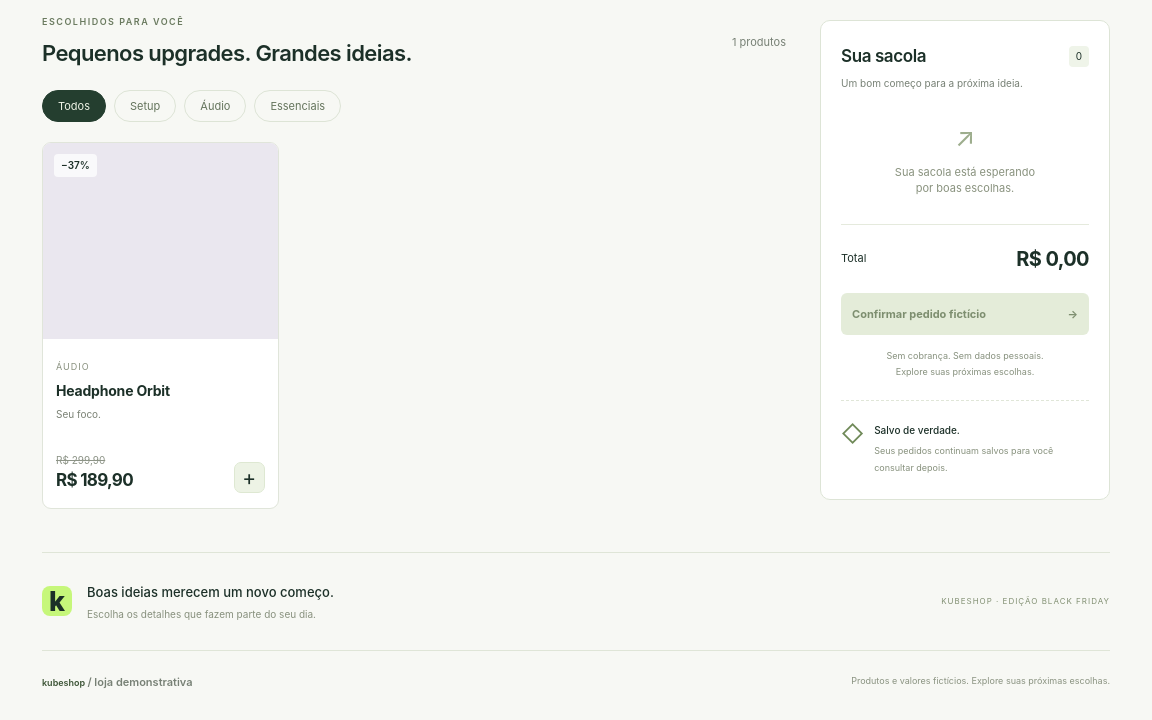
Test case: KubeShop - frontend › adiciona produtos à sacola e calcula o total
(page scrolled)
Click the button named "Adicionar Headphone Orbit": (249, 478) [234,462,265,493]
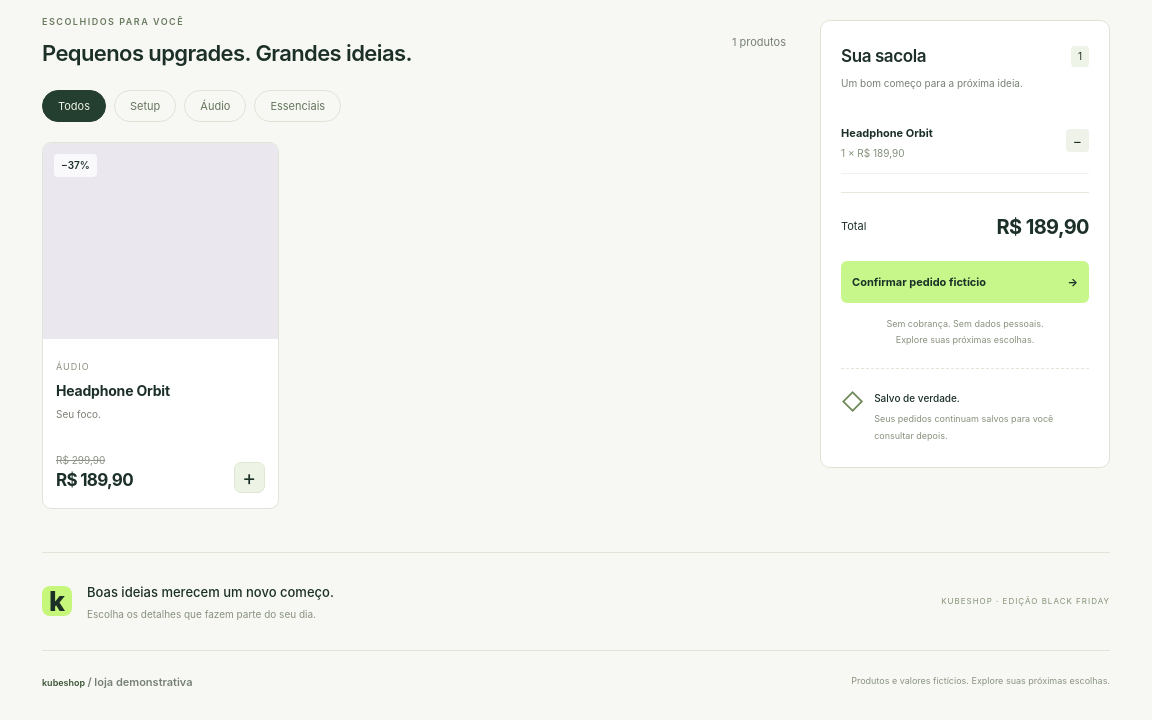
Expected: the text "1 × R$ 189,90" is shown, [841,146,904,158]
Expected: the text "R$ 189,90" next to "Total" is shown, [996,214,1089,238]
Expected: the button "Confirmar pedido fictício →" is enabled, [841,260,1089,303]
